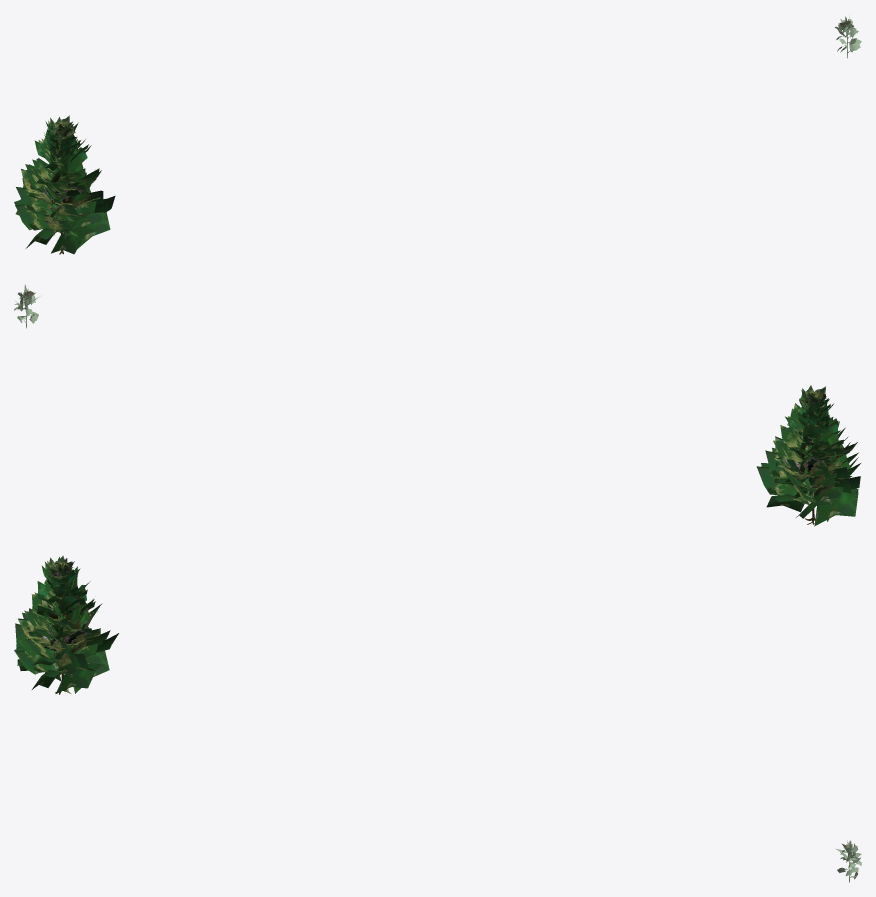
3 renders of one model, top to bottom at view 1: azimuth 30°, elevation 25°; view 2: azimuth 150°, elevation 25°; view 3: azimuth 330°, elevation 25°, orthographic.
Parts seen in each view (by area): view 1: Bark___S.001, Oak_Leav.001; view 2: Bark___S.001, Oak_Leav.001; view 3: Bark___S.001.
Part boxes in pixels (x1=…): Bark___S.001: x1=14, y1=115, x2=115, y2=254; Oak_Leav.001: x1=835, y1=16, x2=861, y2=58; Bark___S.001: x1=756, y1=385, x2=860, y2=526; Oak_Leav.001: x1=14, y1=284, x2=38, y2=328; Bark___S.001: x1=14, y1=555, x2=118, y2=694.
Size of the model in its own units: 53.35 by 8.04 by 5.68.
2 materials, 2 textured.
